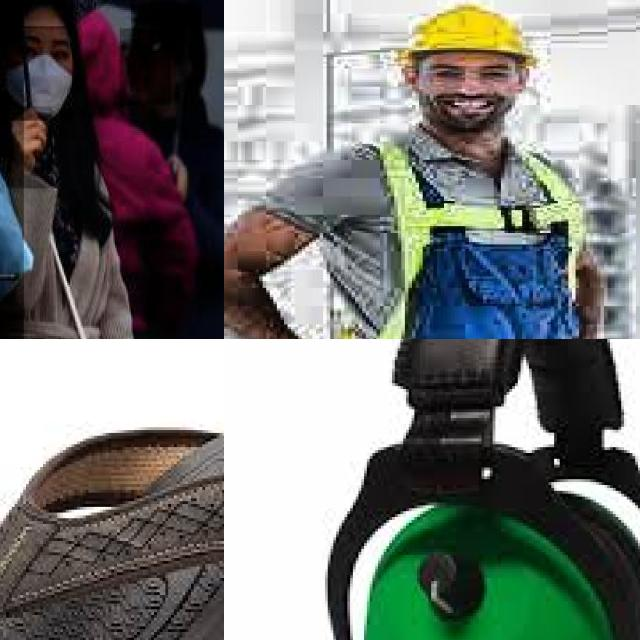Ear-protection: (358, 493, 626, 640)
Harness: (376, 144, 585, 339)
Sandals: (0, 339, 224, 640)
face_mask: (0, 26, 73, 120)
face_nomask: (120, 28, 172, 106)
hand_noglove: (6, 106, 53, 188)
head_nohelmet: (0, 0, 75, 30), (131, 4, 203, 24)
person: (0, 0, 146, 339)
